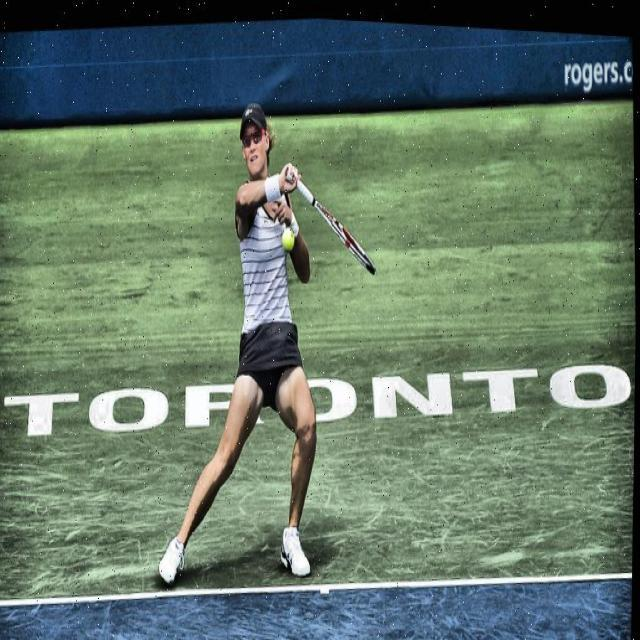tennis-ball: (282, 222, 299, 253)
